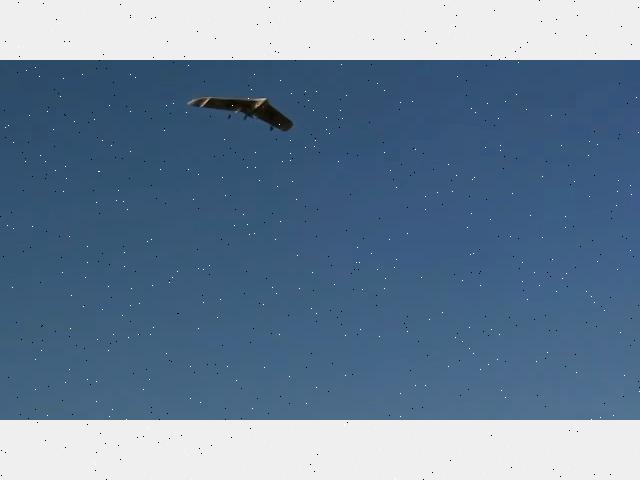Anti-Drone: (189, 96, 293, 132)
